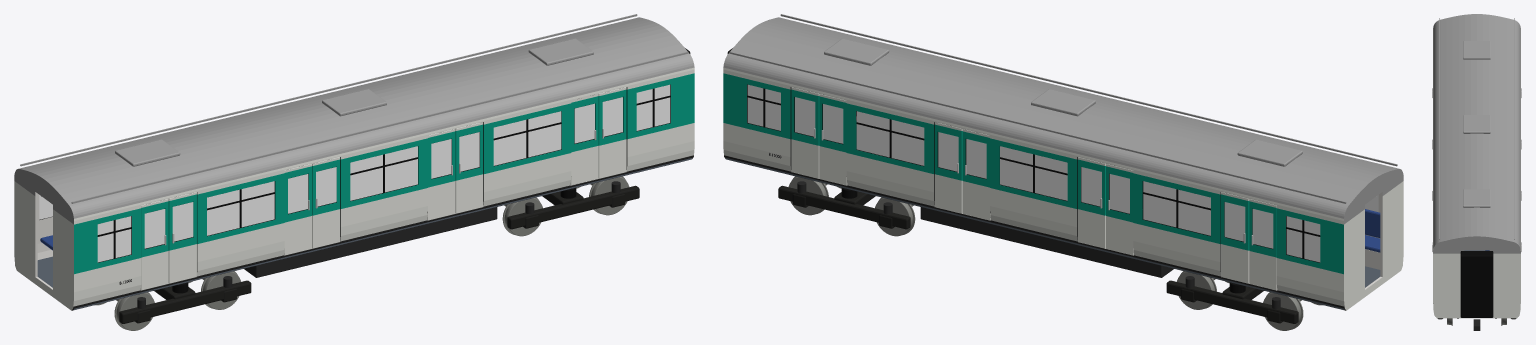
Rendered from mf67_car.glb.
3 views of the same model, side by side, from view 1: azimuth 30°, elevation 25°; view 2: azimuth 150°, elevation 25°; view 3: azimuth 270°, elevation 25° (orthographic). The views are drawn at different scales.
Parts seen in each view (by area): view 1: mf67_car_neutral; view 2: mf67_car_neutral; view 3: mf67_car_neutral.
Boxes of the visible parts, x1=… form: mf67_car_neutral: x1=14, y1=14, x2=694, y2=330; mf67_car_neutral: x1=723, y1=14, x2=1403, y2=330; mf67_car_neutral: x1=1432, y1=14, x2=1521, y2=330.
Bounding box in the file's own units: 14.79 × 3.5 × 2.43.
4 materials, 3 textured.
